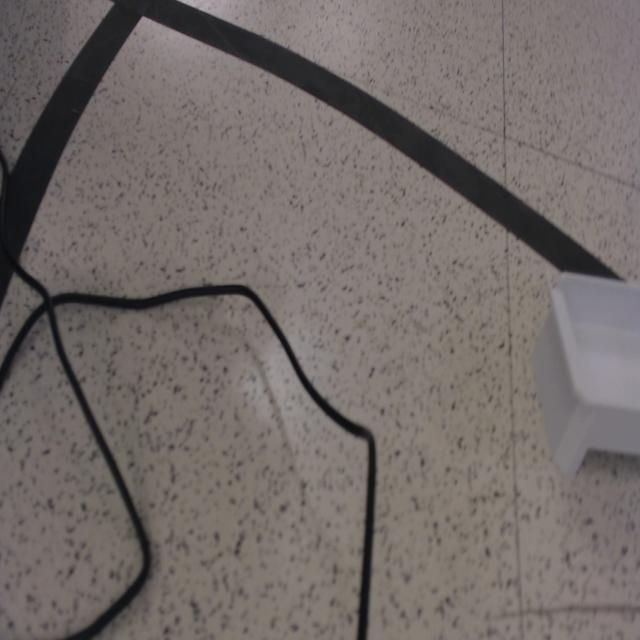wbox: (530, 265, 638, 482)
